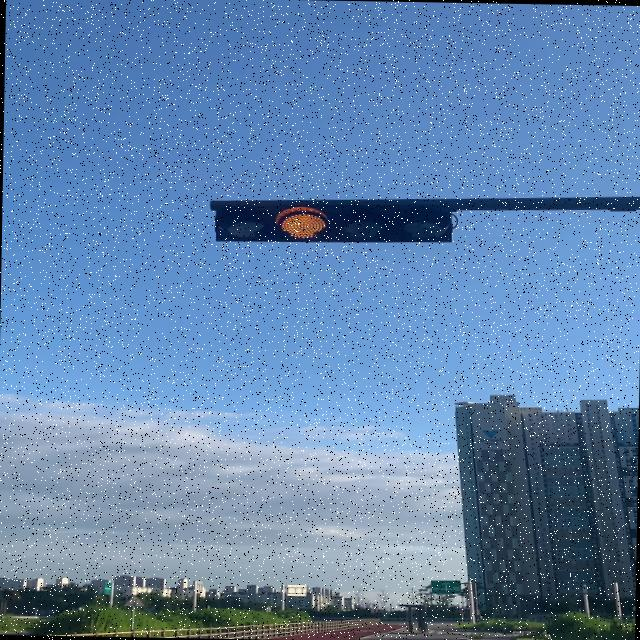yellow_light: (213, 202, 454, 245)
